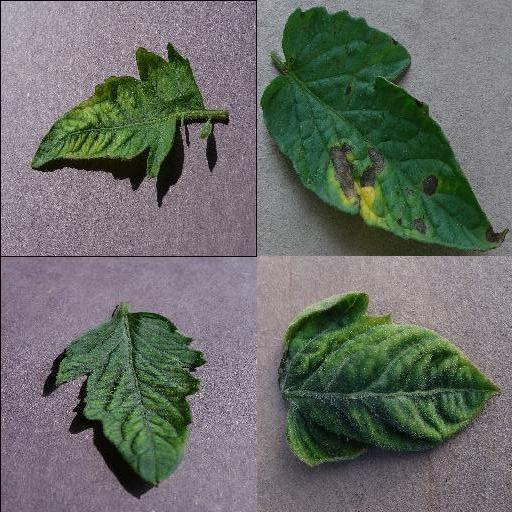Early Blight: (257, 6, 509, 252)
Mosaic Virus: (53, 313, 205, 489), (27, 41, 205, 181)
Yellow Leaf Curl Virus: (277, 293, 501, 467)
